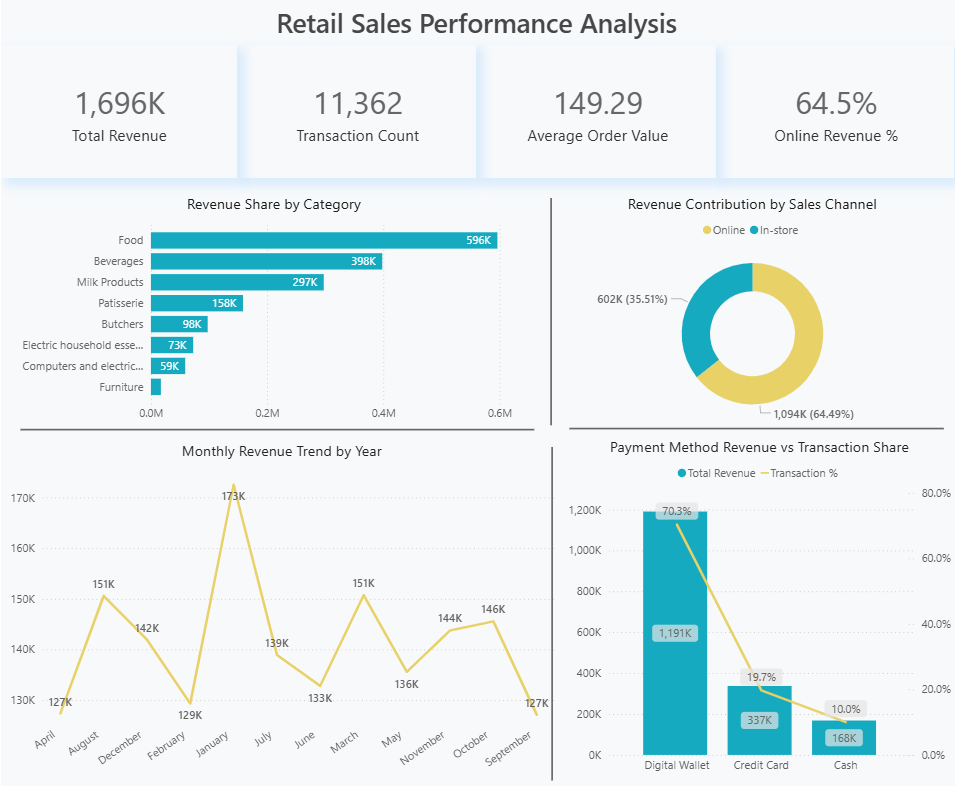

This screenshot's page, from the dashboard's own definition file:
{"tool":"powerbi","page":{"name":"Executive Dashboard","canvas":[1150,950],"ordinal":0},"visuals":[{"type":"donutChart","title":"Revenue Contribution by Sales Channel","fields":{"Category":["retail_sales.location"],"Y":["Measures Table.Total Revenue"]},"box":[687,232.6,437,284.8],"z":0},{"type":"clusteredBarChart","title":"Revenue Share by Category","fields":{"Category":["retail_sales.category"],"Y":["Measures Table.Total Revenue"]},"box":[5.2,232.5,647.4,284.2],"z":1000},{"type":"lineClusteredColumnComboChart","title":"Payment Method Revenue vs Transaction Share","fields":{"Category":["retail_sales.payment_method"],"Y":["Measures Table.Total Revenue"],"Y2":["Measures Table.Transaction %"]},"box":[677.4,525.6,472.5,415.6],"z":2000},{"type":"lineChart","title":"Monthly Revenue Trend by Year","fields":{"Category":["retail_sales.transaction_month","retail_sales.transaction_year"],"Y":["Measures Table.Total Revenue"]},"box":[5.7,531.3,666,415.6],"z":3000},{"type":"shape","box":[23.9,502.9,619.6,30.4],"z":4000},{"type":"shape","box":[686,500.7,451.2,31.5],"z":5000},{"type":"shape","box":[650,539.1,30.4,402.2],"z":6000},{"type":"shape","box":[650,238,28,274],"z":7000},{"type":"card","fields":{"Values":["Measures Table.Total Revenue"]},"box":[0,54.3,284.8,160.9],"z":8000},{"type":"card","fields":{"Values":["Measures Table.Transaction Count"]},"box":[288.4,54.3,284.8,160.9],"z":9000},{"type":"card","fields":{"Values":["Measures Table.Average Order Value"]},"box":[576.8,54.3,284.8,160.9],"z":10000},{"type":"card","fields":{"Values":["Measures Table.Online Revenue %"]},"box":[865.2,54.3,284.8,160.9],"z":11000},{"type":"textbox","box":[24,0,1100,54],"z":12001}]}

Visuals, with their boxes in screenshot pixels (x1, y1, x2, y2), scaled from the page's 1150x950 canvas onto the 956x786 screenshot:
"Revenue Contribution by Sales Channel" donutChart: x1=571 y1=192 x2=934 y2=428
"Revenue Share by Category" clusteredBarChart: x1=4 y1=192 x2=543 y2=428
"Payment Method Revenue vs Transaction Share" lineClusteredColumnComboChart: x1=563 y1=435 x2=955 y2=779
"Monthly Revenue Trend by Year" lineChart: x1=5 y1=440 x2=558 y2=783
shape: x1=20 y1=416 x2=535 y2=441
shape: x1=570 y1=414 x2=945 y2=440
shape: x1=540 y1=446 x2=566 y2=779
shape: x1=540 y1=197 x2=564 y2=424
card - Measures Table.Total Revenue: x1=0 y1=45 x2=237 y2=178
card - Measures Table.Transaction Count: x1=240 y1=45 x2=477 y2=178
card - Measures Table.Average Order Value: x1=479 y1=45 x2=716 y2=178
card - Measures Table.Online Revenue %: x1=719 y1=45 x2=955 y2=178
textbox: x1=20 y1=0 x2=934 y2=45
